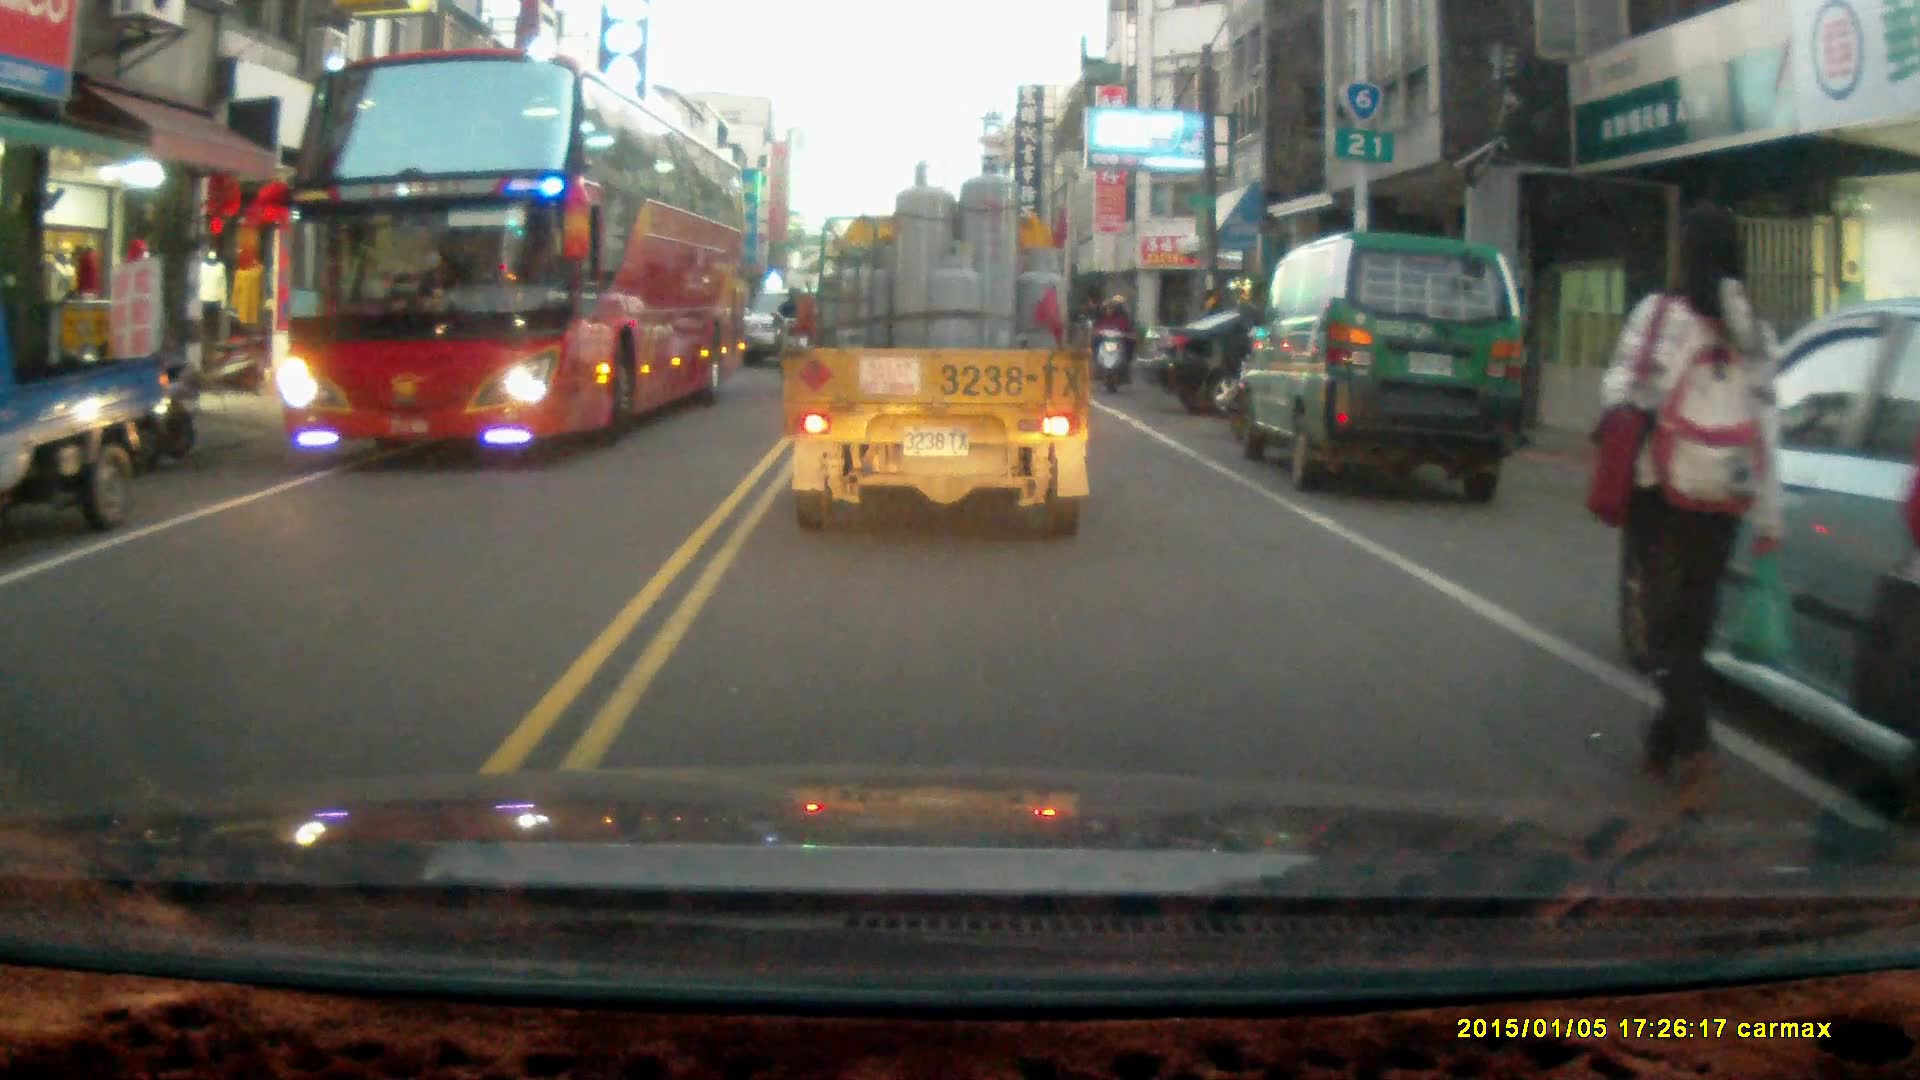pedestrian: (1592, 193, 1786, 818)
rider: (1088, 290, 1135, 391)
vehicle: (275, 51, 755, 460), (786, 154, 1096, 541), (1239, 229, 1527, 496), (1, 327, 173, 543), (1134, 304, 1440, 412)
